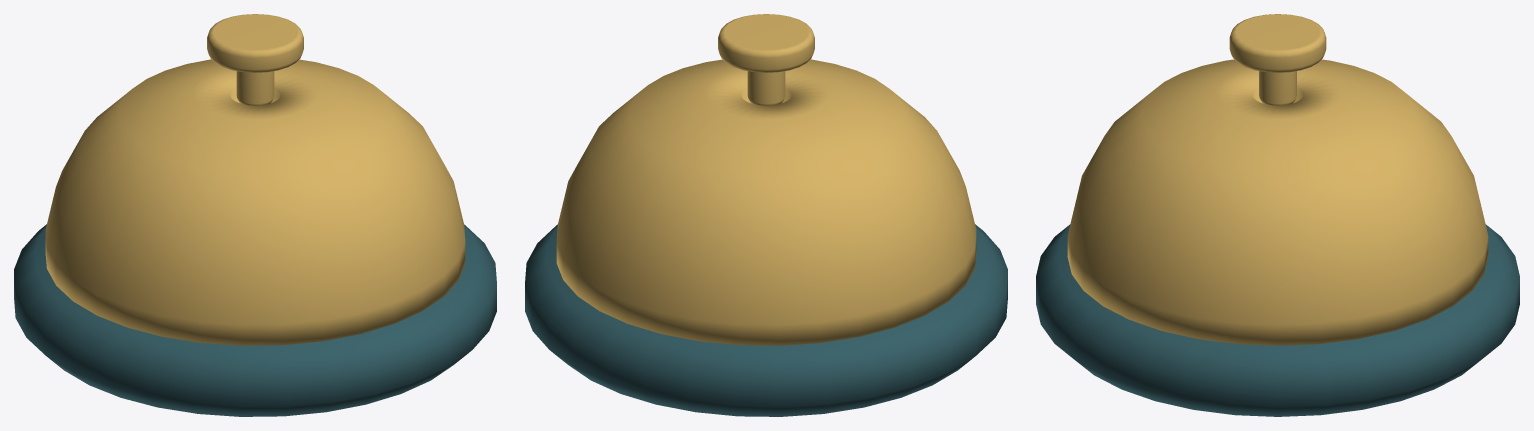
File: HotelTogether-CheckInBell.glb
3 views of the same model, side by side, from view 1: azimuth 30°, elevation 25°; view 2: azimuth 150°, elevation 25°; view 3: azimuth 270°, elevation 25° (orthographic).
Parts seen in each view (by area): view 1: Bell_Dome, Bell_Base, Bell_Button, Bell_ButtonStem; view 2: Bell_Dome, Bell_Base, Bell_Button, Bell_ButtonStem; view 3: Bell_Dome, Bell_Base, Bell_Button, Bell_ButtonStem.
Part boxes in pixels (left/top/right/bottom): Bell_Dome: left=45, top=59, right=465, bottom=345; Bell_Base: left=14, top=224, right=496, bottom=416; Bell_Button: left=207, top=14, right=303, bottom=72; Bell_ButtonStem: left=236, top=71, right=274, bottom=105; Bell_Dome: left=556, top=59, right=976, bottom=345; Bell_Base: left=525, top=224, right=1007, bottom=416; Bell_Button: left=718, top=14, right=814, bottom=72; Bell_ButtonStem: left=747, top=71, right=785, bottom=105; Bell_Dome: left=1067, top=59, right=1488, bottom=345; Bell_Base: left=1036, top=224, right=1519, bottom=416; Bell_Button: left=1229, top=14, right=1326, bottom=72; Bell_ButtonStem: left=1259, top=71, right=1296, bottom=105.
Size of the model in its own units: 0.23 by 0.153 by 0.23.
